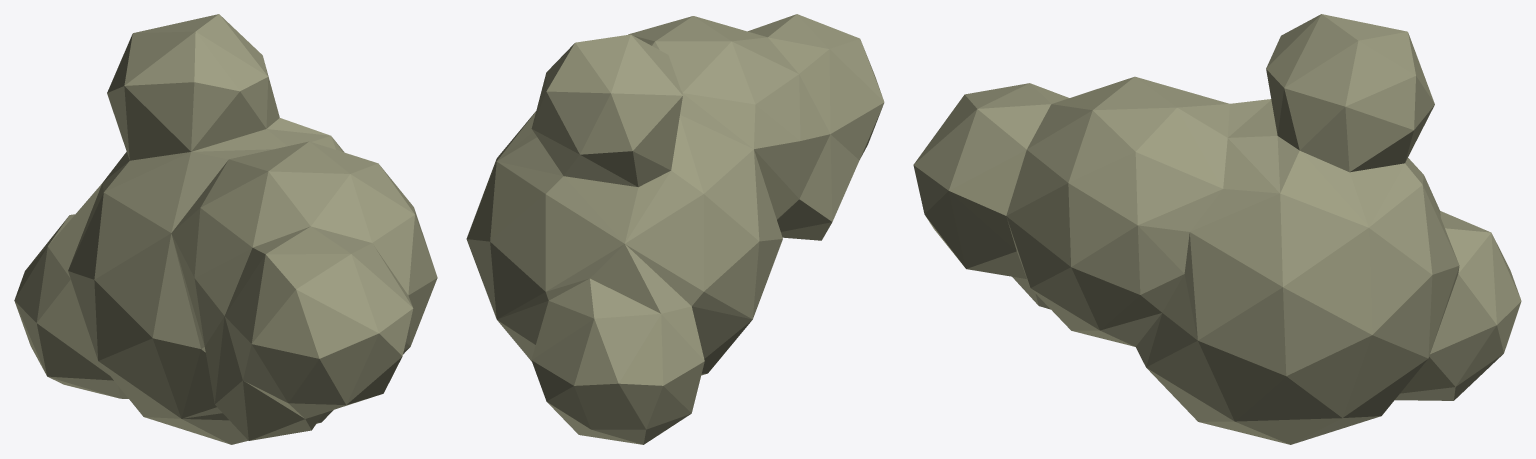
File: rocks_3.dae
3 views of the same model, side by side, from view 1: azimuth 30°, elevation 25°; view 2: azimuth 150°, elevation 25°; view 3: azimuth 270°, elevation 25° (orthographic). The views are drawn at different scales.
Visible parts, largest first — view 1: node; view 2: node; view 3: node.
Part boxes in pixels (x1,y1,x2,y2): node: (14,14,437,444); node: (466,14,884,444); node: (913,14,1521,444).
Bounding box in the file's own units: 4.12 × 7.34 × 5.25.
